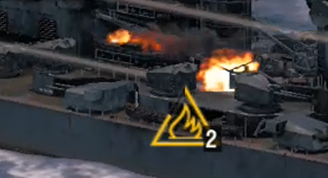2fire: (147, 115, 223, 153)
